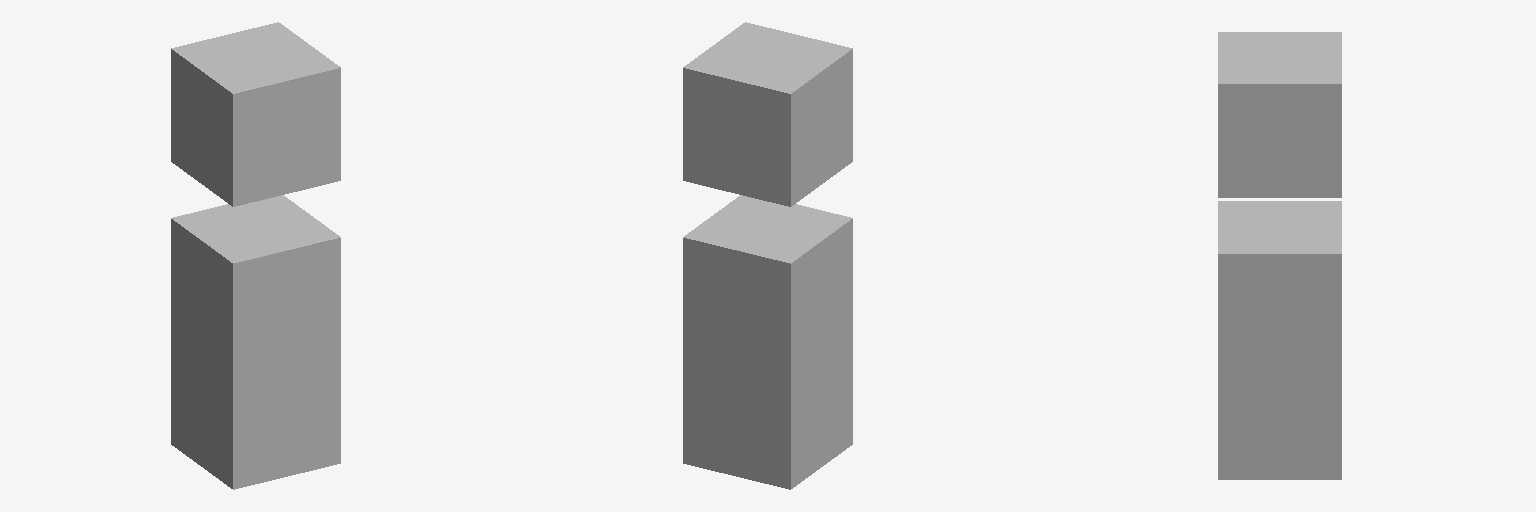
File: RotationTest.obj
3 renders of one model, left to right at view 1: azimuth 30°, elevation 25°; view 2: azimuth 150°, elevation 25°; view 3: azimuth 270°, elevation 25°, orthographic.
Parts seen in each view (by area): view 1: Arm, Base; view 2: Arm, Base; view 3: Arm, Base.
Boxes of the visible parts, x1,y1,x2,y2 form: Arm: [171, 195, 340, 489]; Base: [171, 22, 340, 206]; Arm: [683, 195, 852, 489]; Base: [683, 22, 852, 206]; Arm: [1218, 201, 1341, 479]; Base: [1218, 32, 1341, 197].
Size of the model in its own units: 1 by 3.5 by 1.